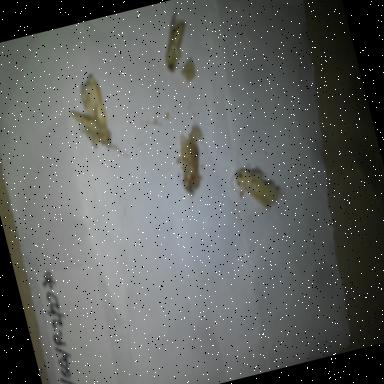abw: (66, 96, 133, 172), (150, 1, 202, 80), (225, 156, 287, 220), (164, 126, 214, 203), (72, 68, 114, 140)
